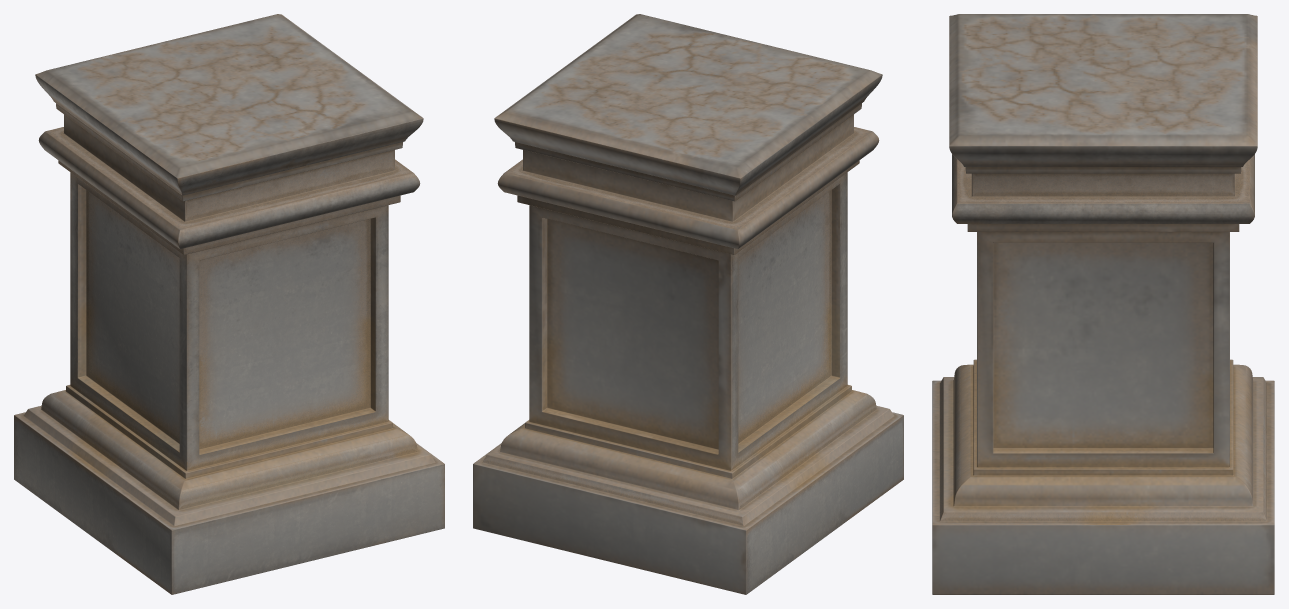
The model's file is uploads_files_4862254_pedestal.fbx.
The picture shows the model from 3 angles, left to right: view 1: azimuth 30°, elevation 25°; view 2: azimuth 150°, elevation 25°; view 3: azimuth 270°, elevation 25°; orthographic projection. The views are drawn at different scales.
Visible parts, largest first — view 1: Pedestal; view 2: Pedestal; view 3: Pedestal.
Boxes of the visible parts, bbox=[...] form: Pedestal: bbox=[14, 14, 444, 594]; Pedestal: bbox=[473, 14, 903, 594]; Pedestal: bbox=[932, 14, 1274, 594].
Bounding box in the file's own units: 200 × 289 × 200.
1 material, 1 textured.
